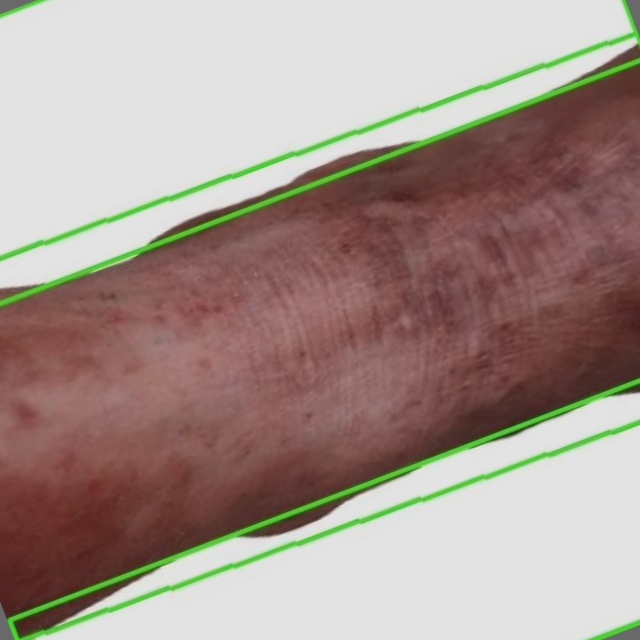Eczema: (0, 33, 639, 639)
